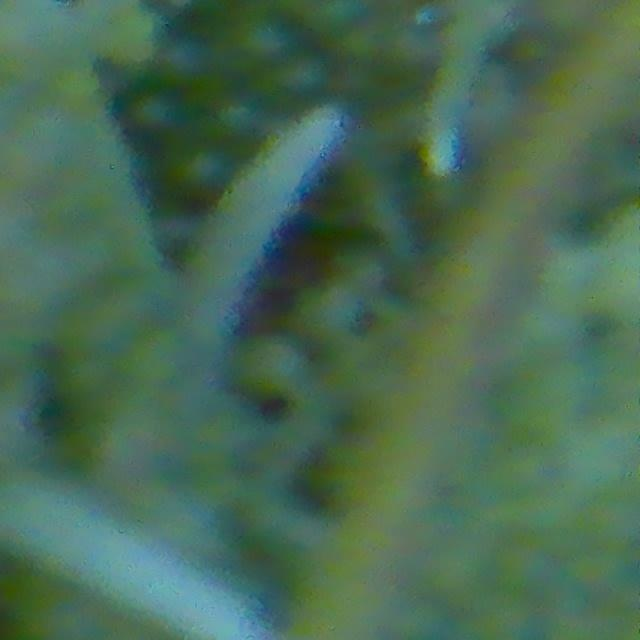SeaGrape: (243, 335, 307, 397), (129, 99, 193, 147), (233, 12, 289, 65), (208, 98, 264, 148), (279, 49, 330, 99), (182, 144, 235, 186)
